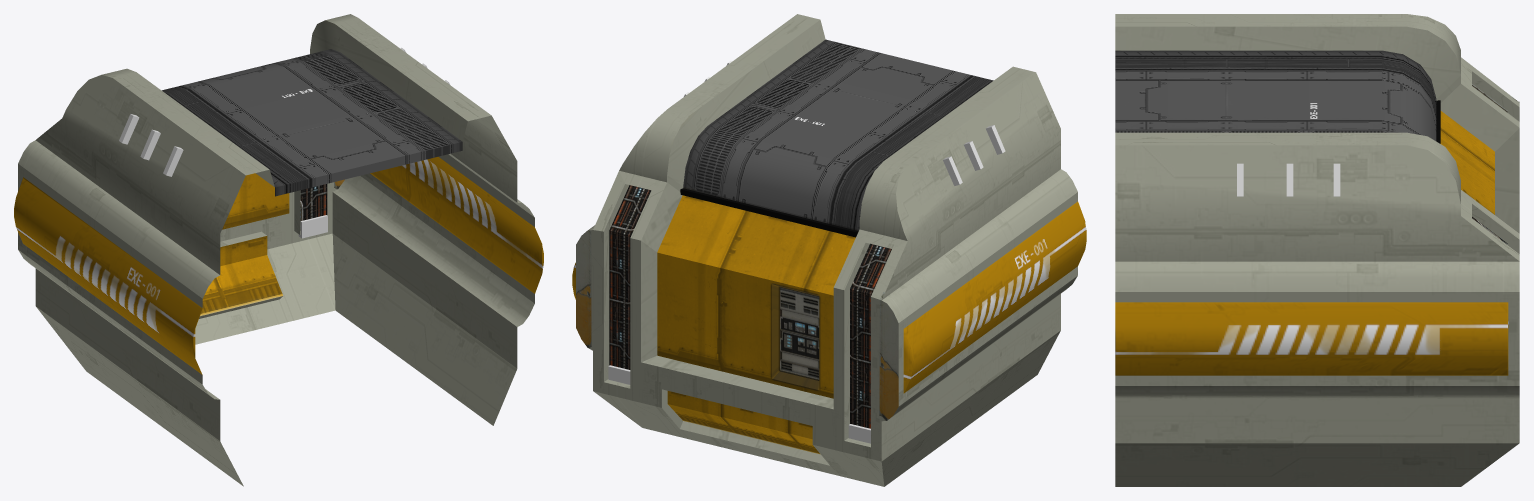
Rendered from BandaTransporteFrente.fbx.
3 renders of one model, left to right at view 1: azimuth 30°, elevation 25°; view 2: azimuth 150°, elevation 25°; view 3: azimuth 270°, elevation 25°, orthographic. The views are drawn at different scales.
Parts seen in each view (by area): view 1: Cube.274, Cube.208, Cube.049; view 2: Cube.274, Cube.208, Cube.049; view 3: Cube.274, Cube.208, Cube.049.
Part boxes in pixels (x1,y1,x2,y2): Cube.274: (14,14,543,486); Cube.208: (162,49,462,187); Cube.049: (119,47,449,238); Cube.274: (572,14,1086,486); Cube.208: (683,39,993,229); Cube.049: (608,61,1005,443); Cube.274: (1115,14,1519,486); Cube.208: (1115,50,1436,140); Cube.049: (1237,163,1340,196).
Size of the model in its own units: 64.99 by 55.06 by 59.26.
